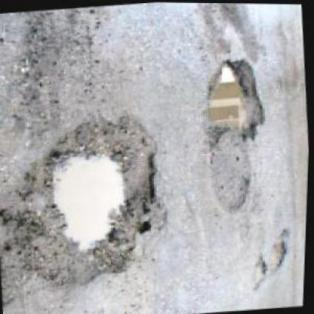Hueco: (0, 111, 176, 294), (200, 54, 272, 151), (266, 227, 296, 268), (249, 254, 271, 290)
